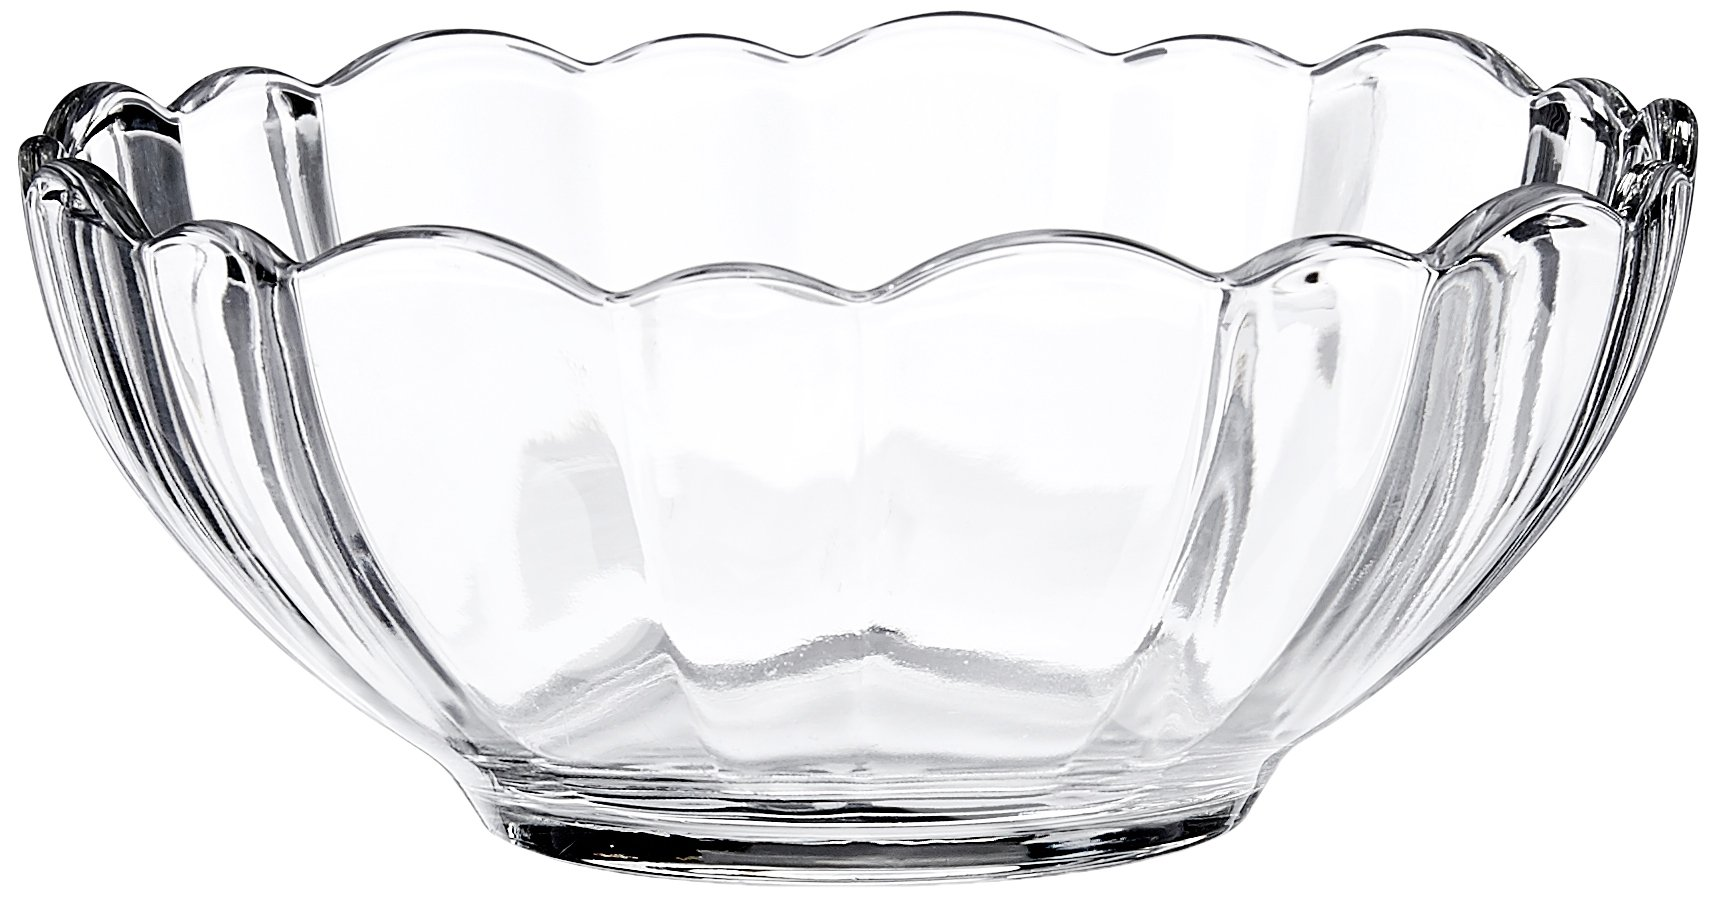glass: (18, 9, 1698, 886)
